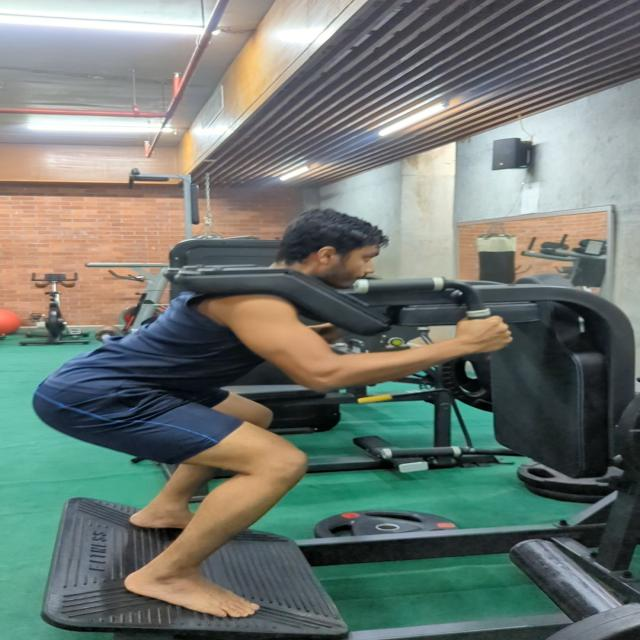Normal_SquatsWithBarbell: (16, 217, 549, 623)
